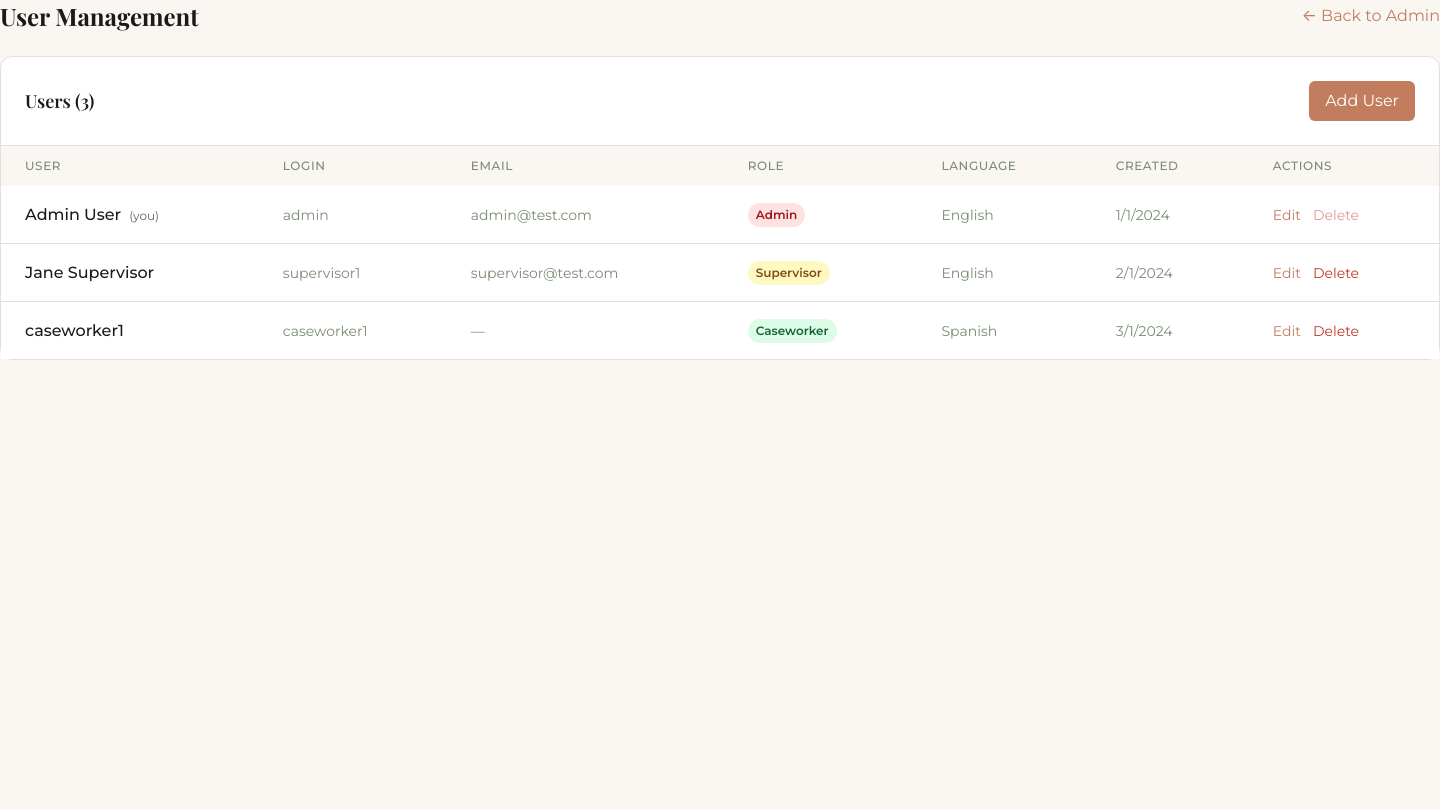
it: AdminUsersPage › should show edit form when edit button clicked
This screenshot has width=1440, height=810.
expect the heading "Users (3)" is shown: met, box [25,87,94,115]
Click the button "Edit" in the row of "you": point(1287, 214) [1273,204,1301,224]
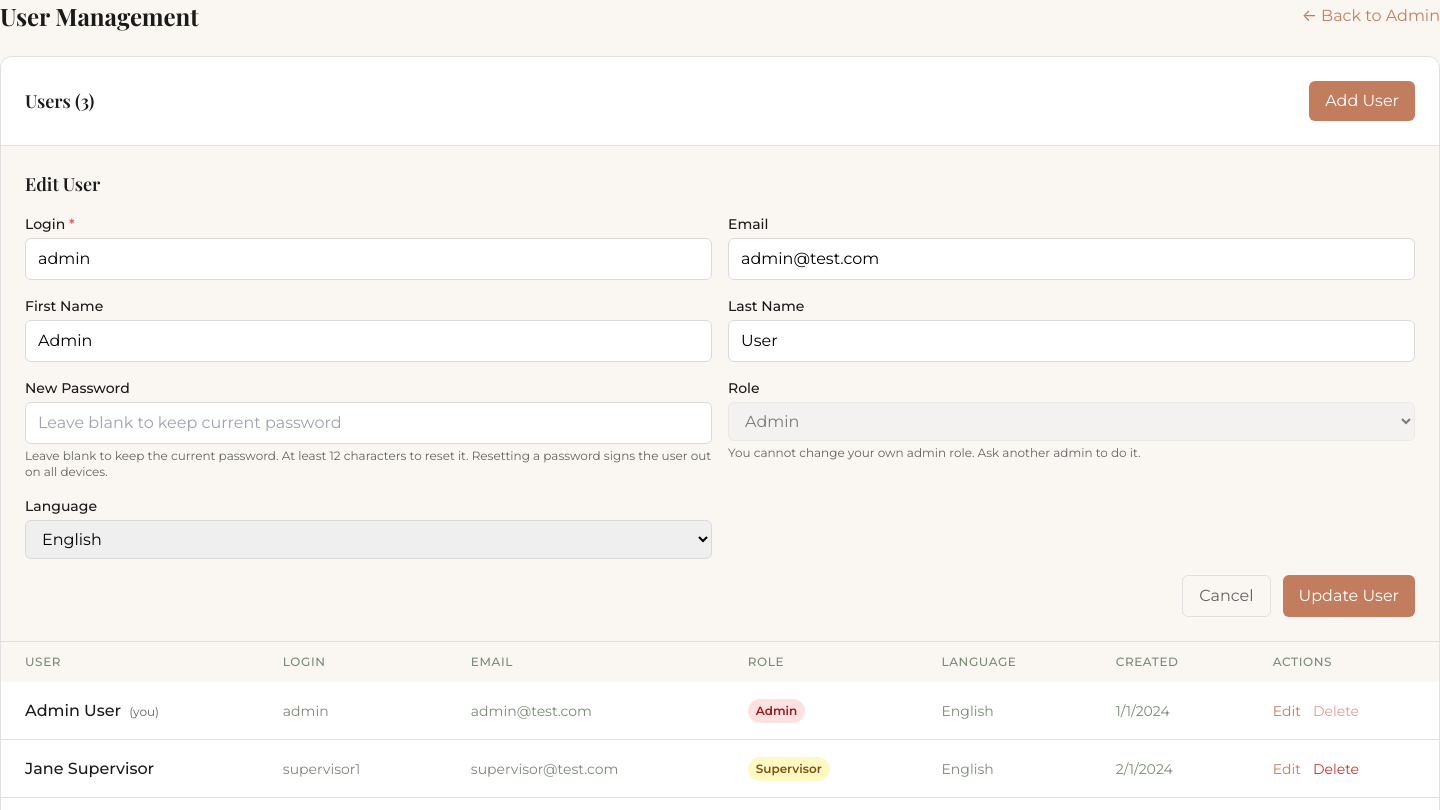
expect the heading "Edit User" is shown: met, box [25,172,100,196]
expect the field labelled "Login *" holds "admin": met, box [25,238,712,280]
expect the field labelled "Email" holds "admin@test.com": met, box [728,238,1415,280]
